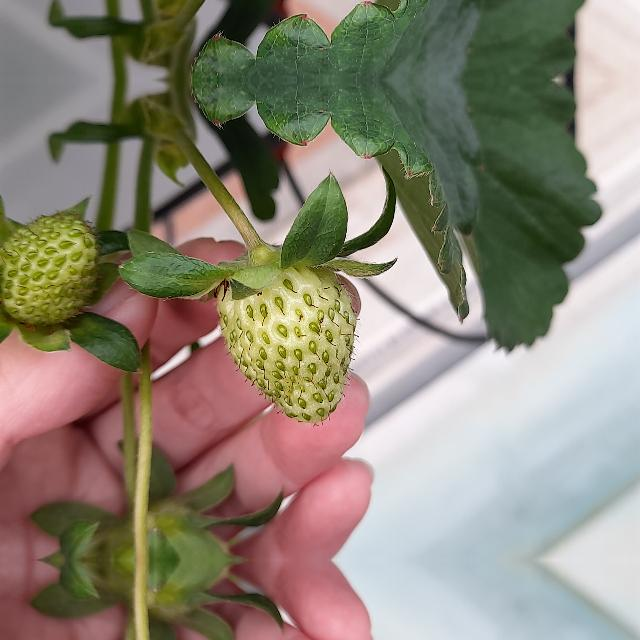Health_25: (217, 263, 356, 423), (0, 214, 100, 330)
